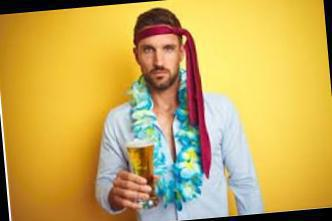Drunk: (139, 34, 178, 84)
